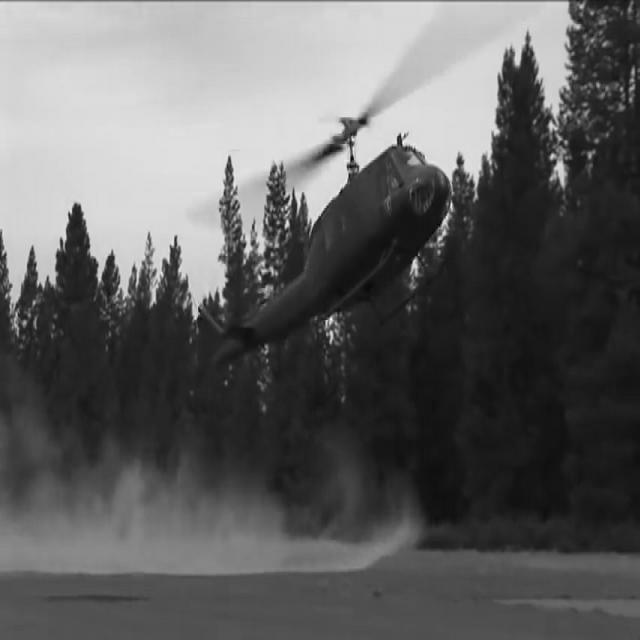helikopter: (169, 101, 459, 384)
